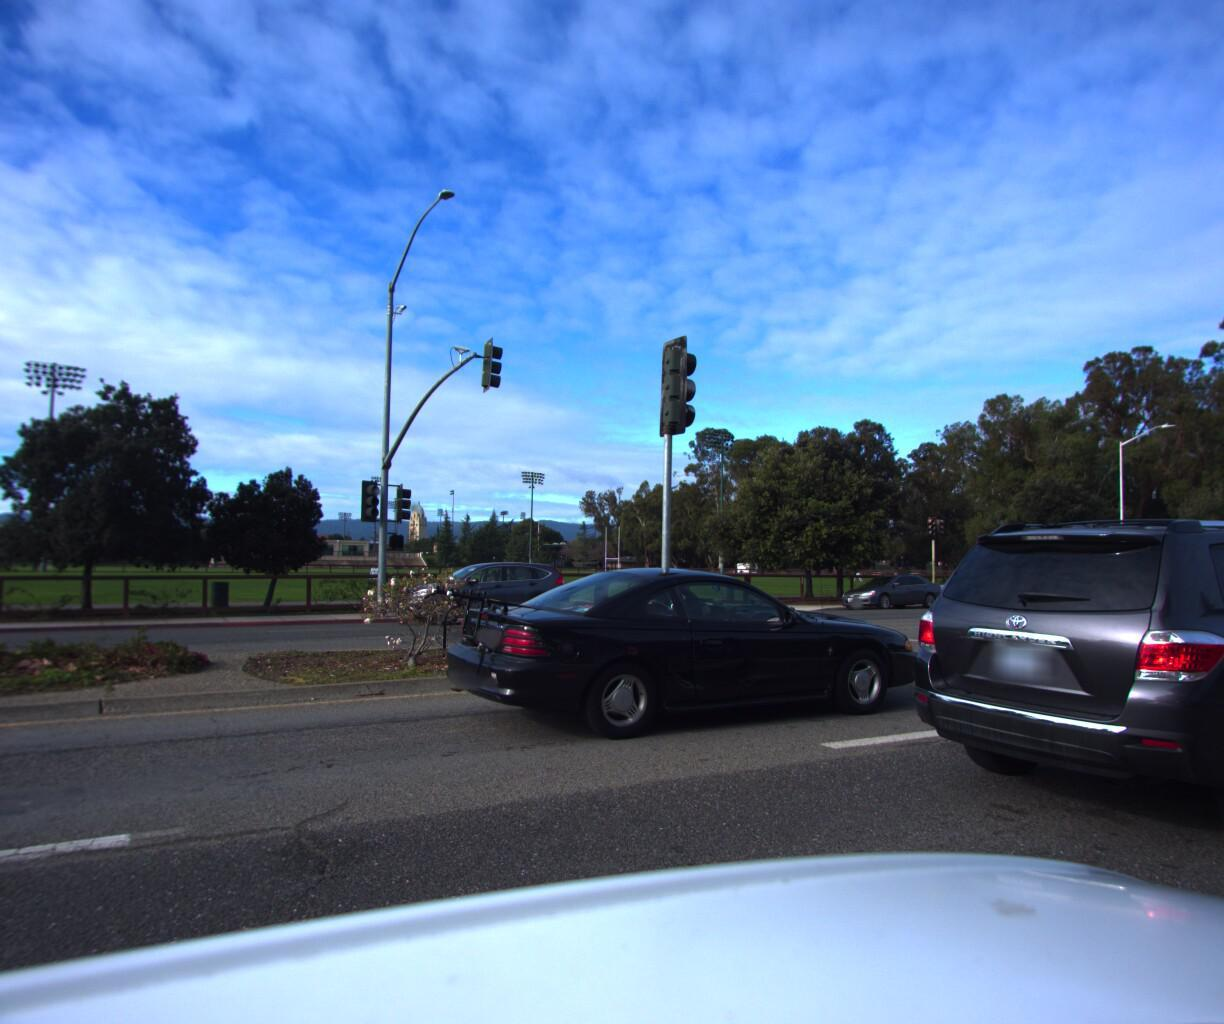car: (860, 491, 1224, 923), (403, 562, 902, 767), (392, 557, 572, 622), (827, 566, 953, 608)
